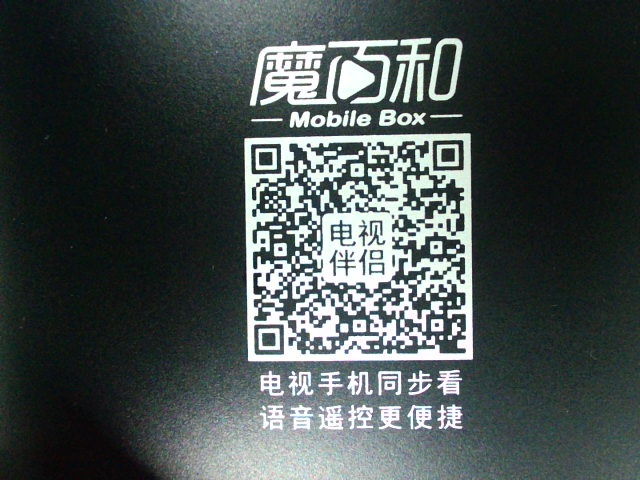AZ_MobileBox: (232, 33, 473, 437)
